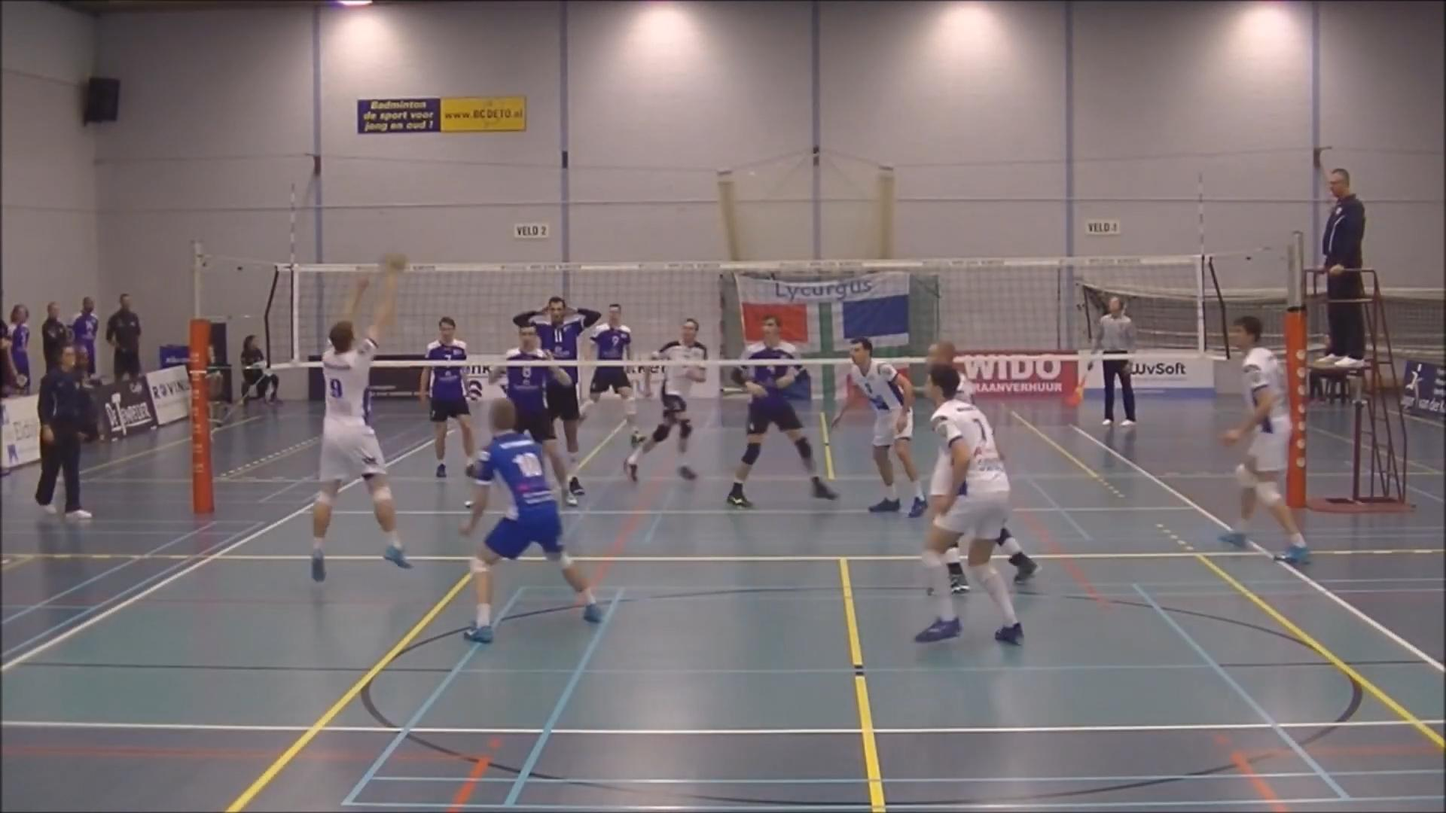Player: (461, 399, 602, 643), (915, 364, 1022, 644), (1220, 315, 1308, 563), (728, 316, 837, 507), (831, 338, 927, 517), (489, 324, 576, 505), (514, 297, 601, 469), (624, 318, 707, 481), (419, 317, 476, 477), (580, 366, 643, 446), (996, 527, 1039, 583)
Receive: (284, 251, 434, 580)
